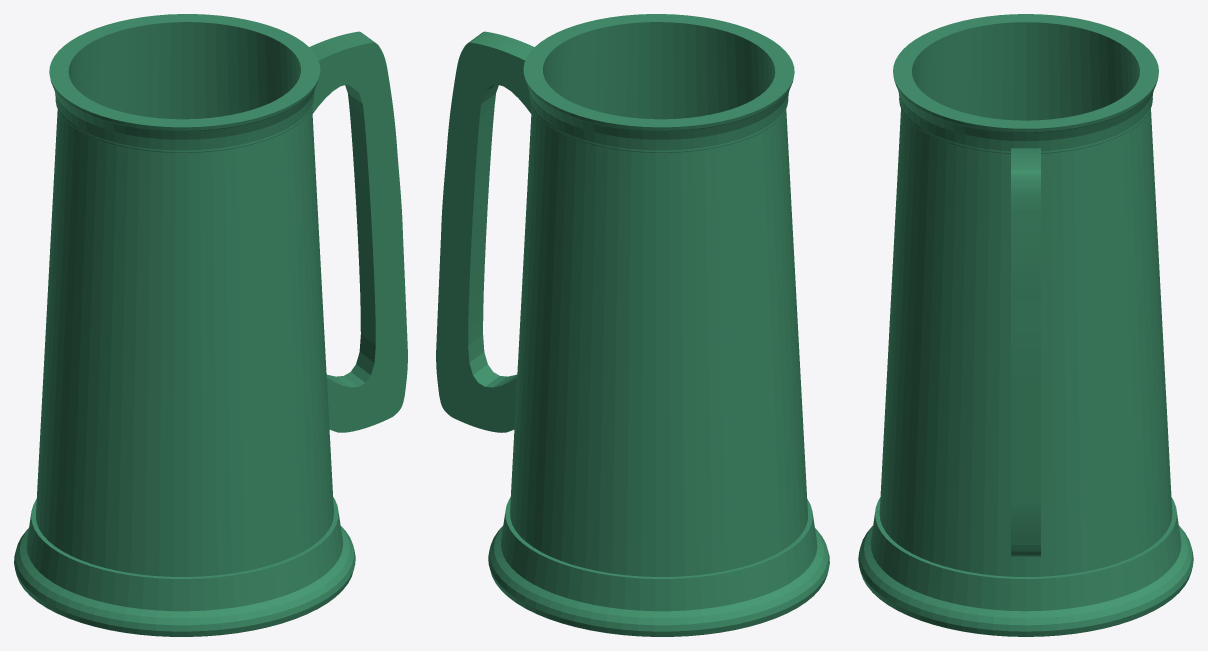
File: green-mug.glb
The picture shows the model from 3 angles, left to right: view 1: azimuth 30°, elevation 25°; view 2: azimuth 150°, elevation 25°; view 3: azimuth 270°, elevation 25°; orthographic projection.
Parts seen in each view (by area): view 1: Mesh_Mesh_head_geo.001_lambert2SG.001; view 2: Mesh_Mesh_head_geo.001_lambert2SG.001; view 3: Mesh_Mesh_head_geo.001_lambert2SG.001.
Boxes of the visible parts, x1,y1,x2,y2 form: Mesh_Mesh_head_geo.001_lambert2SG.001: (14, 14, 407, 636); Mesh_Mesh_head_geo.001_lambert2SG.001: (436, 14, 829, 636); Mesh_Mesh_head_geo.001_lambert2SG.001: (858, 14, 1193, 636).
Size of the model in its own units: 0.01 by 0.013 by 0.008.
